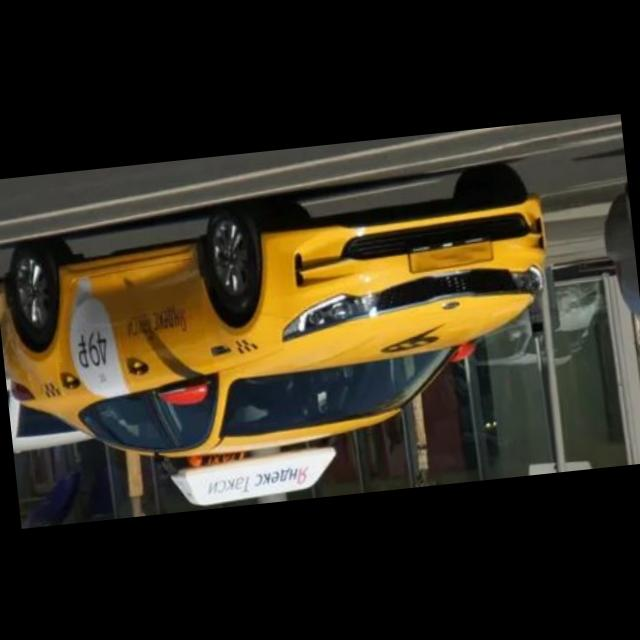taxi: (1, 158, 569, 525)
